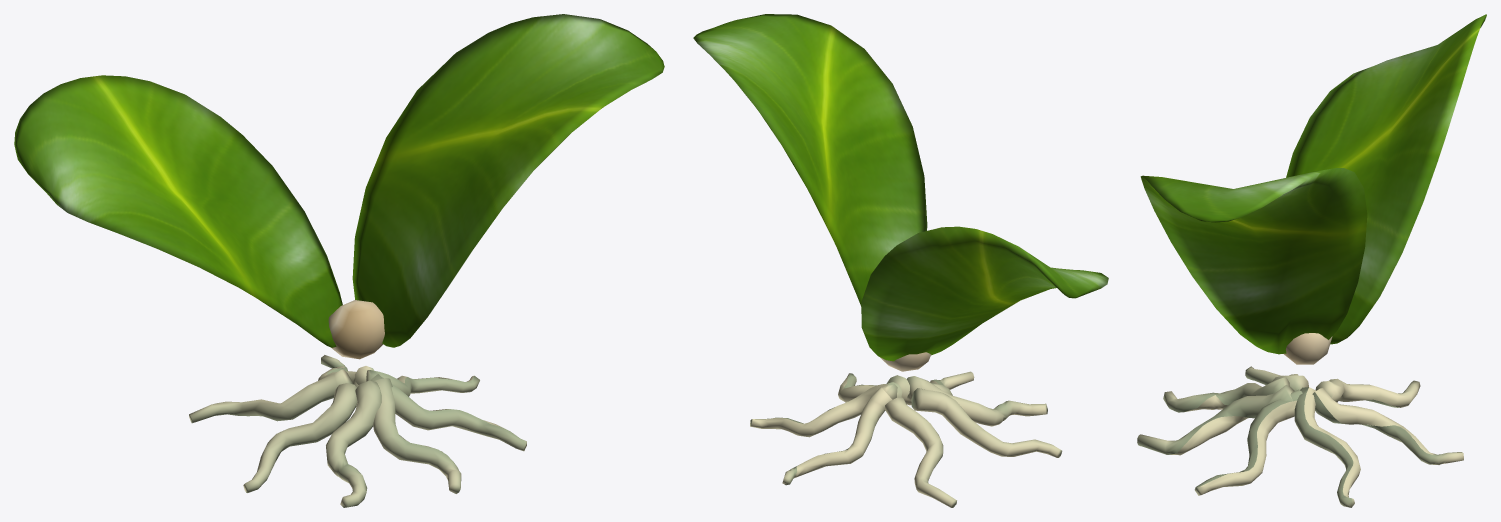
Rendered from NP_Orchid_Sprout_LOD1.fbx.
3 renders of one model, left to right at view 1: azimuth 30°, elevation 25°; view 2: azimuth 150°, elevation 25°; view 3: azimuth 270°, elevation 25°, orthographic. The views are drawn at different scales.
Visible parts, largest first — view 1: NP_Orchid_Sprout; view 2: NP_Orchid_Sprout; view 3: NP_Orchid_Sprout.
Boxes of the visible parts, x1,y1,x2,y2 form: NP_Orchid_Sprout: (14, 14, 664, 507); NP_Orchid_Sprout: (693, 14, 1108, 507); NP_Orchid_Sprout: (1137, 14, 1486, 507).
Bounding box in the file's own units: 32.14 × 22.16 × 19.3.
1 material, 1 textured.
